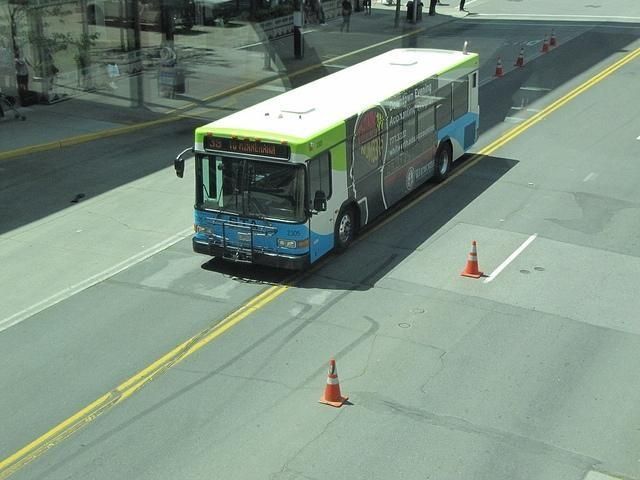bus: (171, 47, 480, 276)
